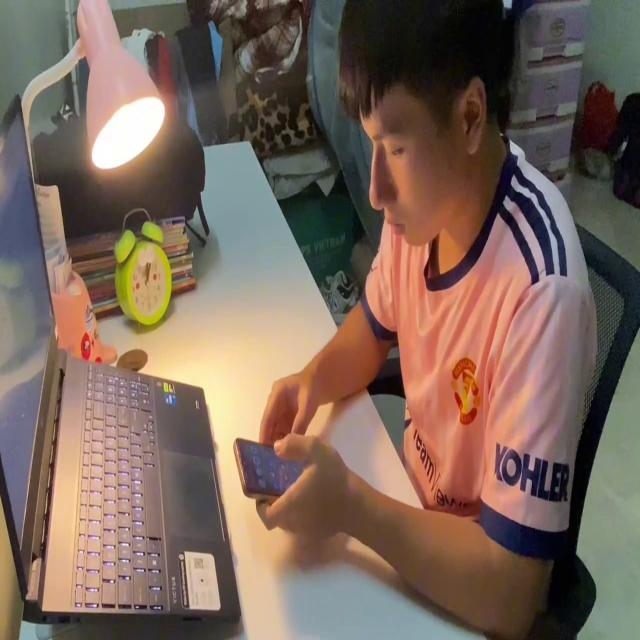laptop: (0, 88, 243, 631)
phone: (233, 426, 311, 500)
student: (255, 0, 598, 634)
